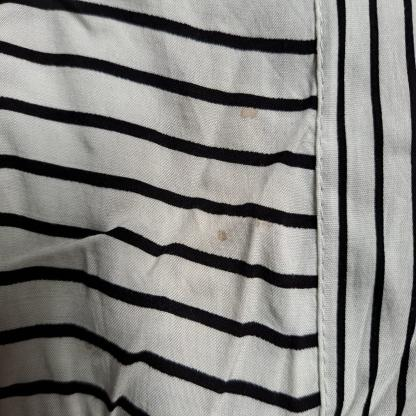spot: (235, 105, 264, 122), (214, 224, 231, 248), (82, 339, 97, 355)
